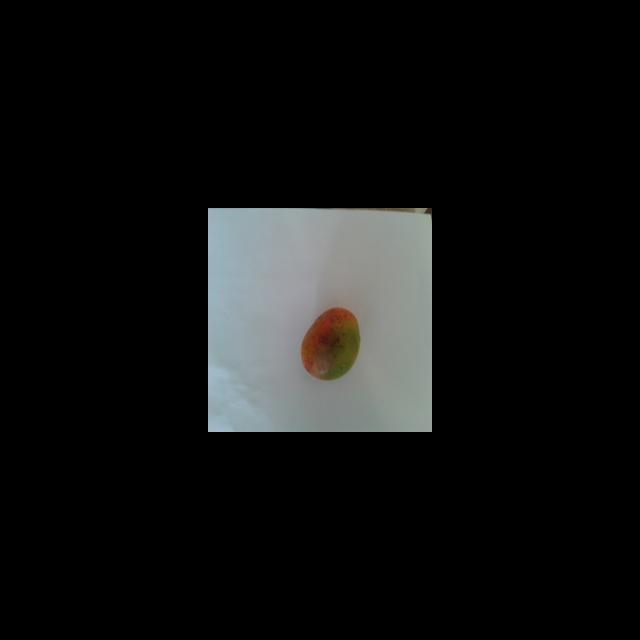Mango: (300, 306, 360, 380)
